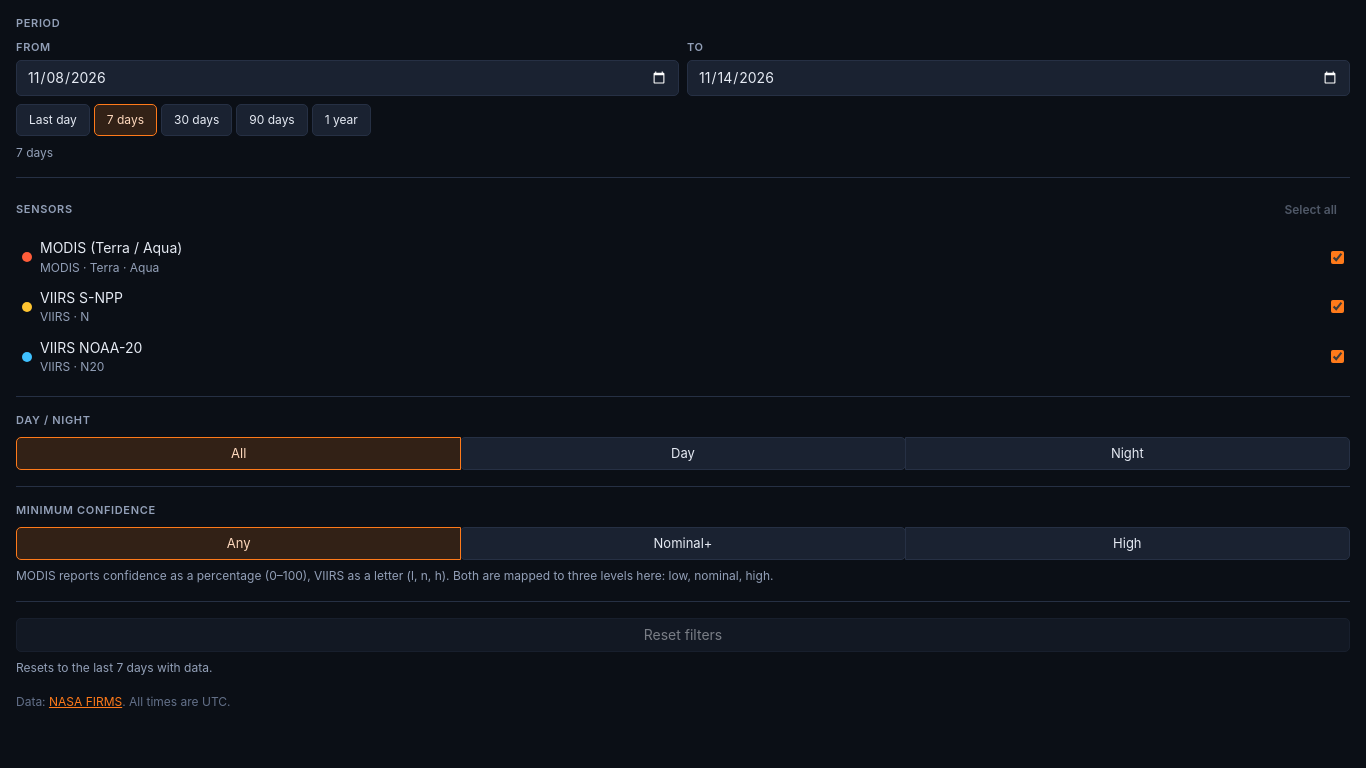
FiltersPanel › reset is disabled by default and restores defaults
Click the button "90 days" at (272,120), box 236,104 -> 308,136
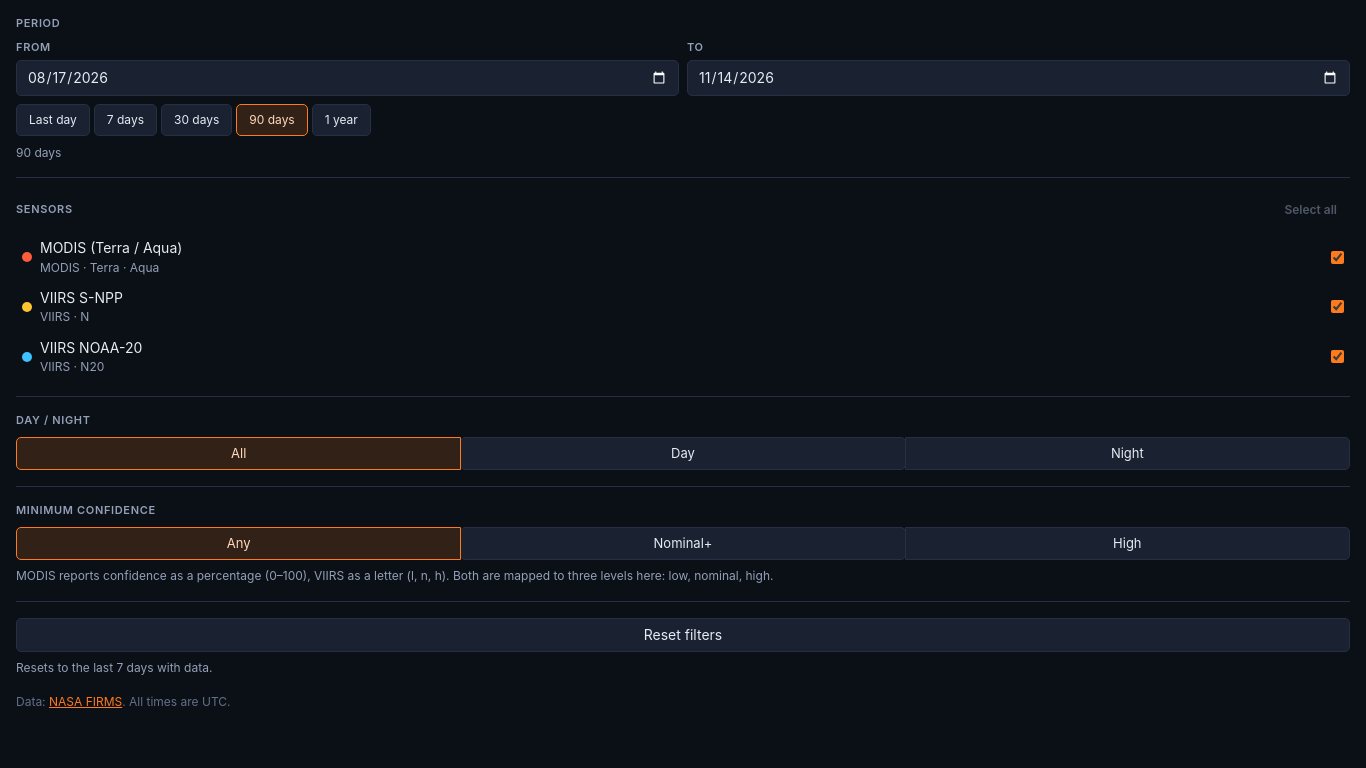
Expected: the button "Reset filters" is enabled
Click the button "Reset filters" at (683,635), box 16,618 -> 1350,652
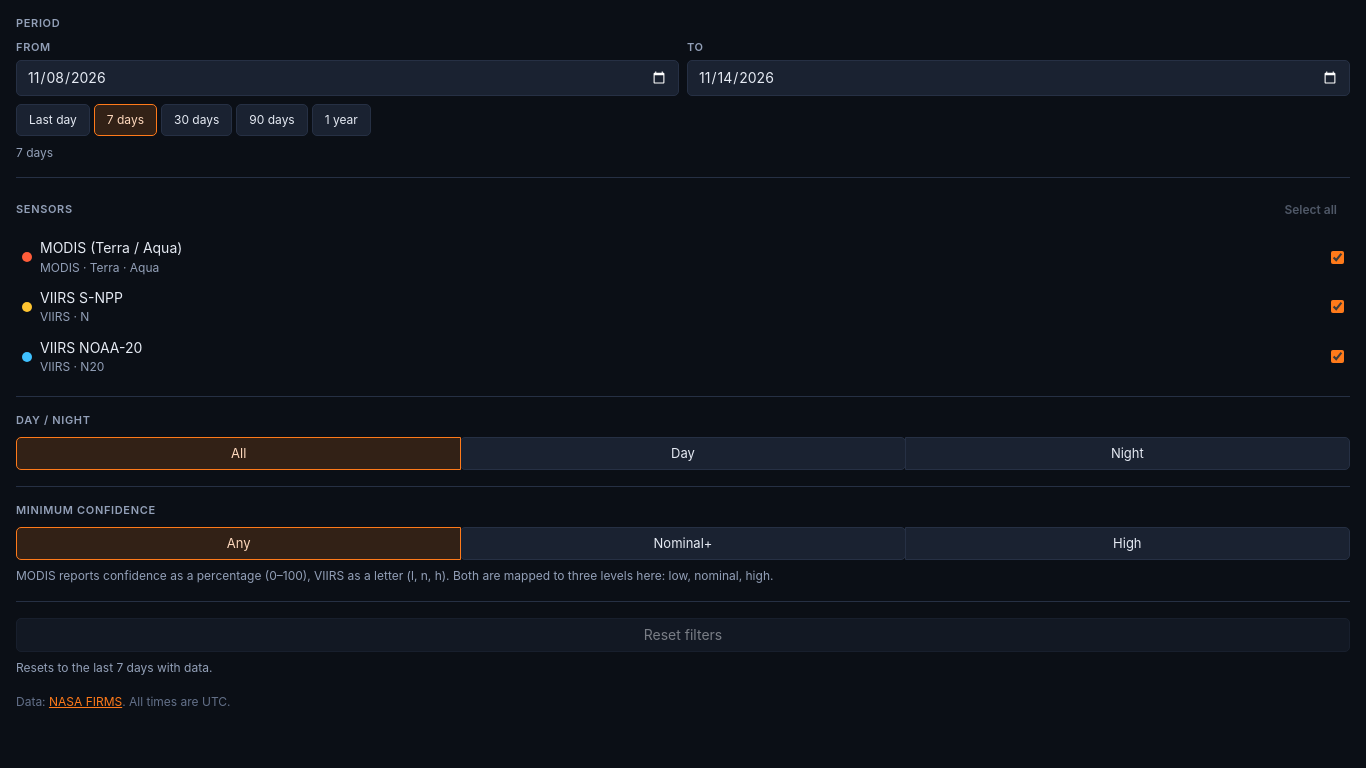
Expected: the button "Reset filters" is disabled, 16,618 -> 1350,652
